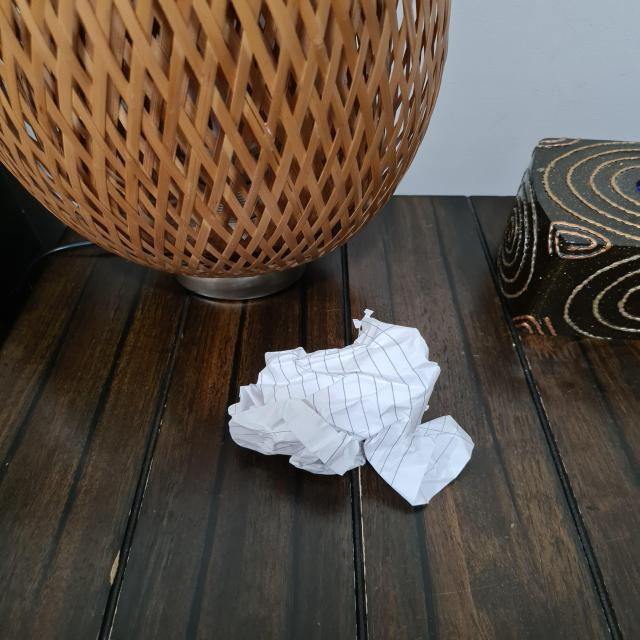cardboard paper: (228, 309, 471, 503)
